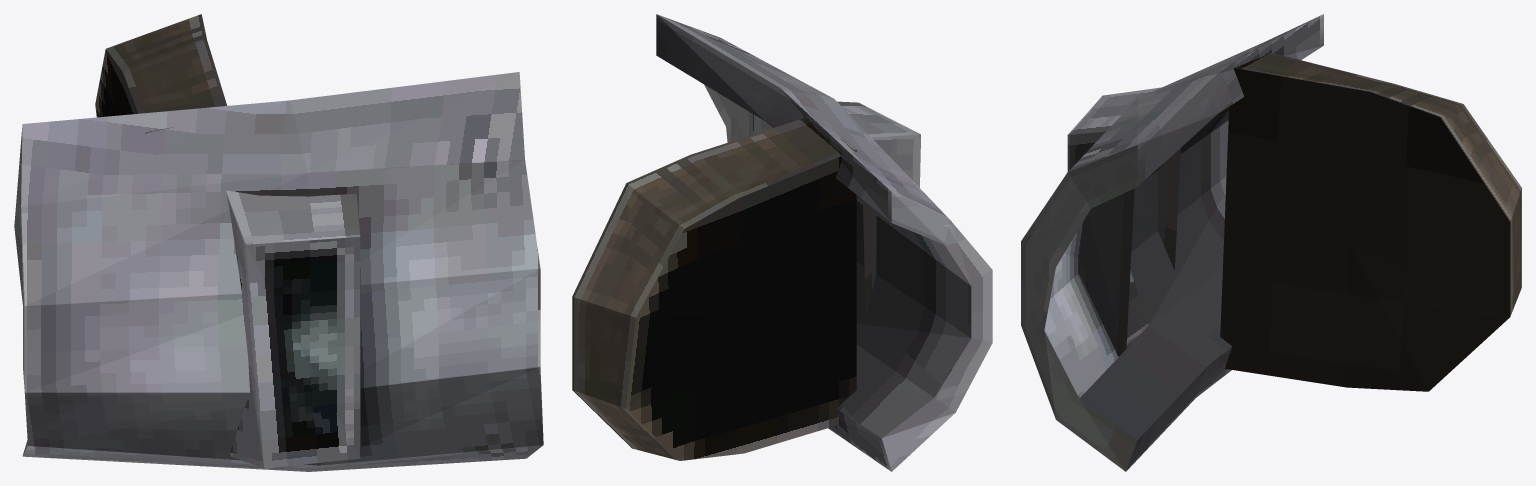
Rendered from THOSEHELM.obj.
The picture shows the model from 3 angles, left to right: view 1: azimuth 30°, elevation 25°; view 2: azimuth 150°, elevation 25°; view 3: azimuth 270°, elevation 25°; orthographic projection. The views are drawn at different scales.
Visible parts, largest first — view 1: Node 0; view 2: Node 0; view 3: Node 0.
Boxes of the visible parts, x1,y1,x2,y2 form: Node 0: (14,14,543,471); Node 0: (572,14,992,471); Node 0: (1021,14,1521,471).
Size of the model in its own units: 0.38 by 0.31 by 0.43.
Materials: 1 (1 with a texture image).
